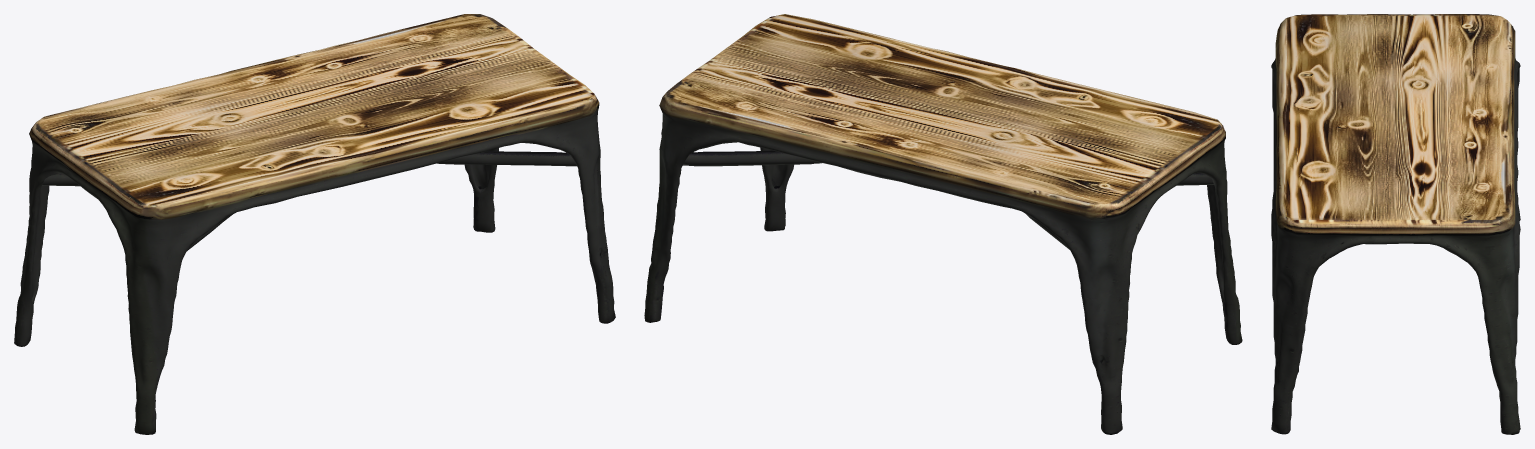
The model's file is ELIO_Table_Bench_Indu_0403043658_texture.glb.
3 renders of one model, left to right at view 1: azimuth 30°, elevation 25°; view 2: azimuth 150°, elevation 25°; view 3: azimuth 270°, elevation 25°, orthographic. The views are drawn at different scales.
Visible parts, largest first — view 1: Mesh_0.002; view 2: Mesh_0.002; view 3: Mesh_0.002.
Part boxes in pixels (x1,y1,x2,y2): Mesh_0.002: (14,14,615,434); Mesh_0.002: (644,14,1242,434); Mesh_0.002: (1271,14,1520,434).
Size of the model in its own units: 1.03 by 0.4572 by 0.4953.
Materials: 1 (1 with a texture image).
